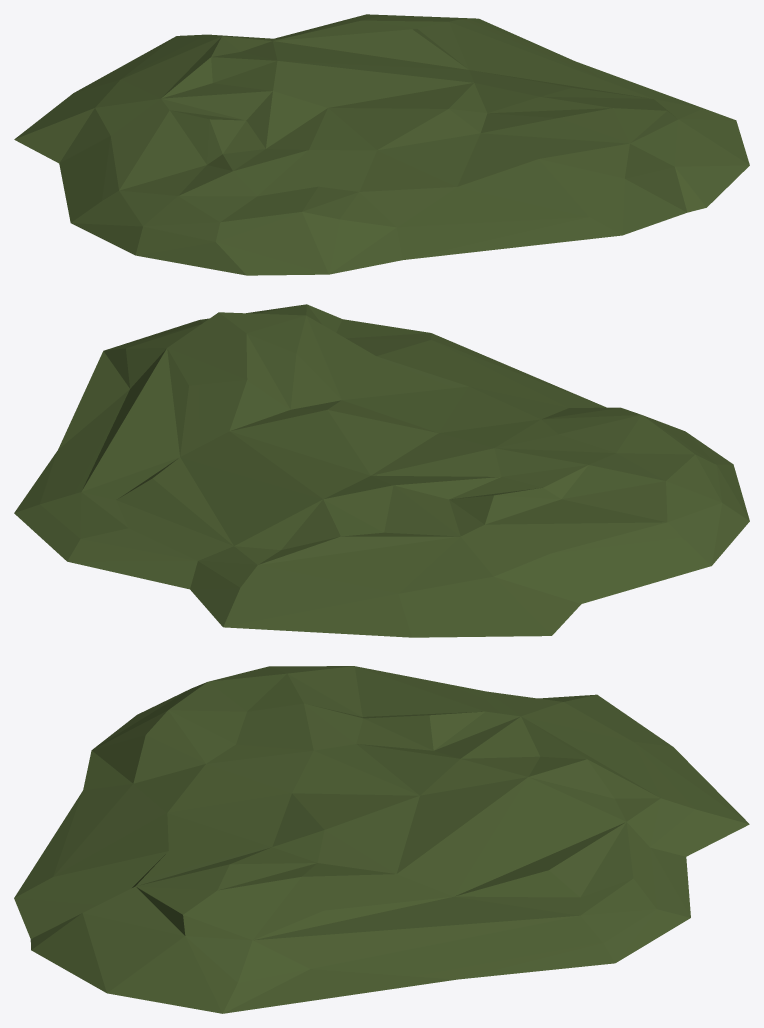
Rendered from SM_Env_GrassPatch_01.glb.
3 views of the same model, one above another, from view 1: azimuth 30°, elevation 25°; view 2: azimuth 150°, elevation 25°; view 3: azimuth 270°, elevation 25° (orthographic). The views are drawn at different scales.
Parts seen in each view (by area): view 1: SM_Env_GrassPatch_01; view 2: SM_Env_GrassPatch_01; view 3: SM_Env_GrassPatch_01.
Part boxes in pixels (x1=…): SM_Env_GrassPatch_01: x1=14, y1=14, x2=749, y2=275; SM_Env_GrassPatch_01: x1=14, y1=304, x2=749, y2=637; SM_Env_GrassPatch_01: x1=14, y1=666, x2=749, y2=1013.
Bounding box in the file's own units: 0.0265 × 0.00186 × 0.0239.
